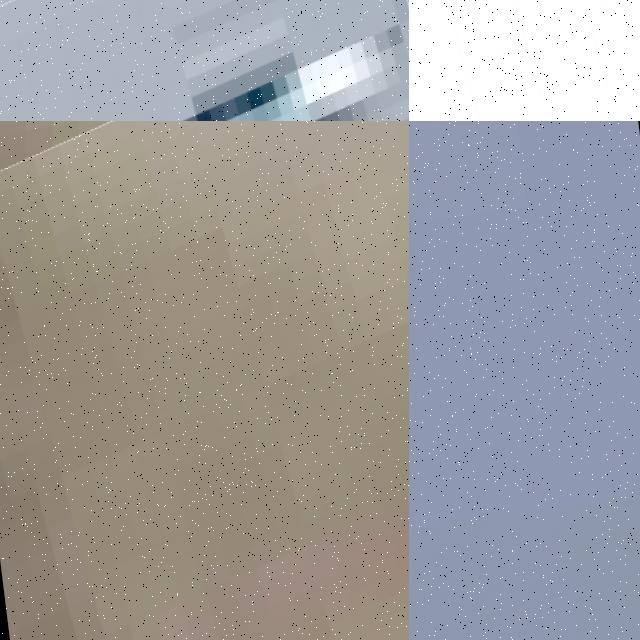drone: (0, 121, 409, 640), (0, 0, 409, 121), (409, 0, 640, 121)
